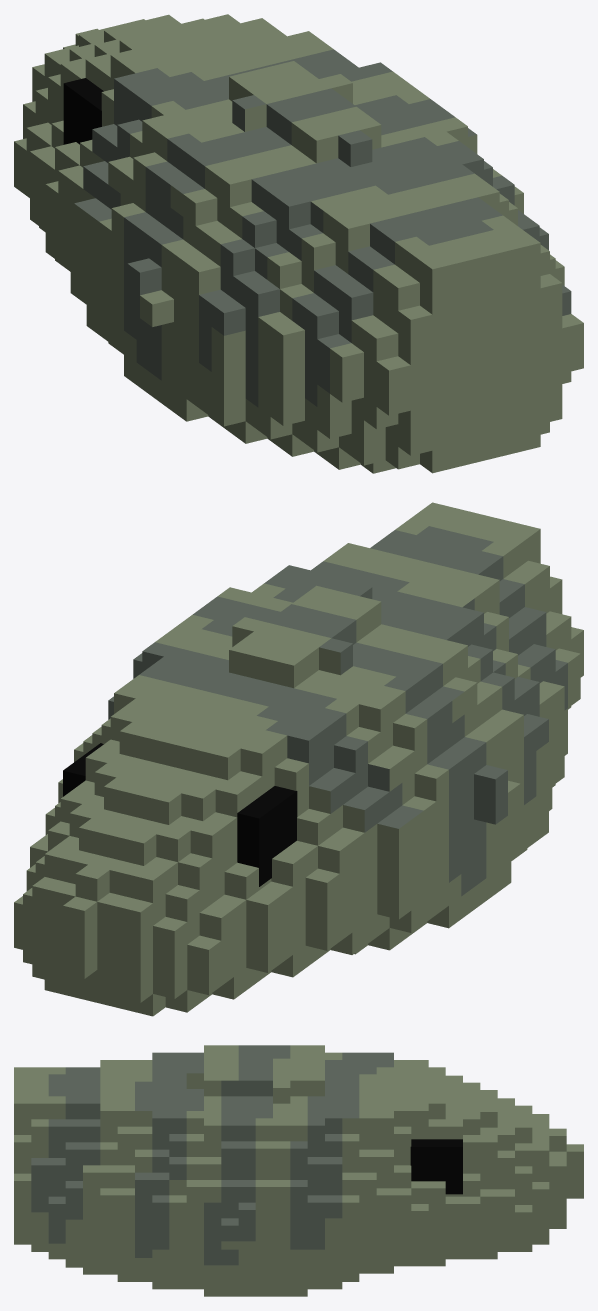
File: SnakeHead.fbx
3 views of the same model, one above another, from view 1: azimuth 30°, elevation 25°; view 2: azimuth 150°, elevation 25°; view 3: azimuth 270°, elevation 25° (orthographic). The views are drawn at different scales.
Parts seen in each view (by area): view 1: Plane.015, Sphere.004; view 2: Plane.015, Sphere.004; view 3: Plane.015, Sphere.004.
Part boxes in pixels (x1,y1,x2,y2): Plane.015: (14, 14, 583, 473); Sphere.004: (63, 78, 103, 144); Plane.015: (14, 502, 583, 1016); Sphere.004: (63, 743, 297, 886); Plane.015: (14, 1045, 583, 1296); Sphere.004: (410, 1139, 462, 1194).
Bounding box in the file's own units: 111 × 216 × 71.95.
